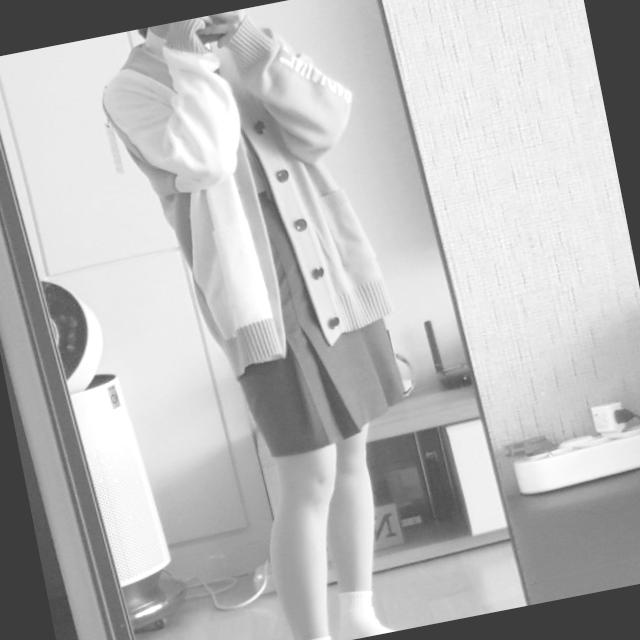cardigan: (89, 0, 402, 390)
skirt: (197, 169, 417, 466)
